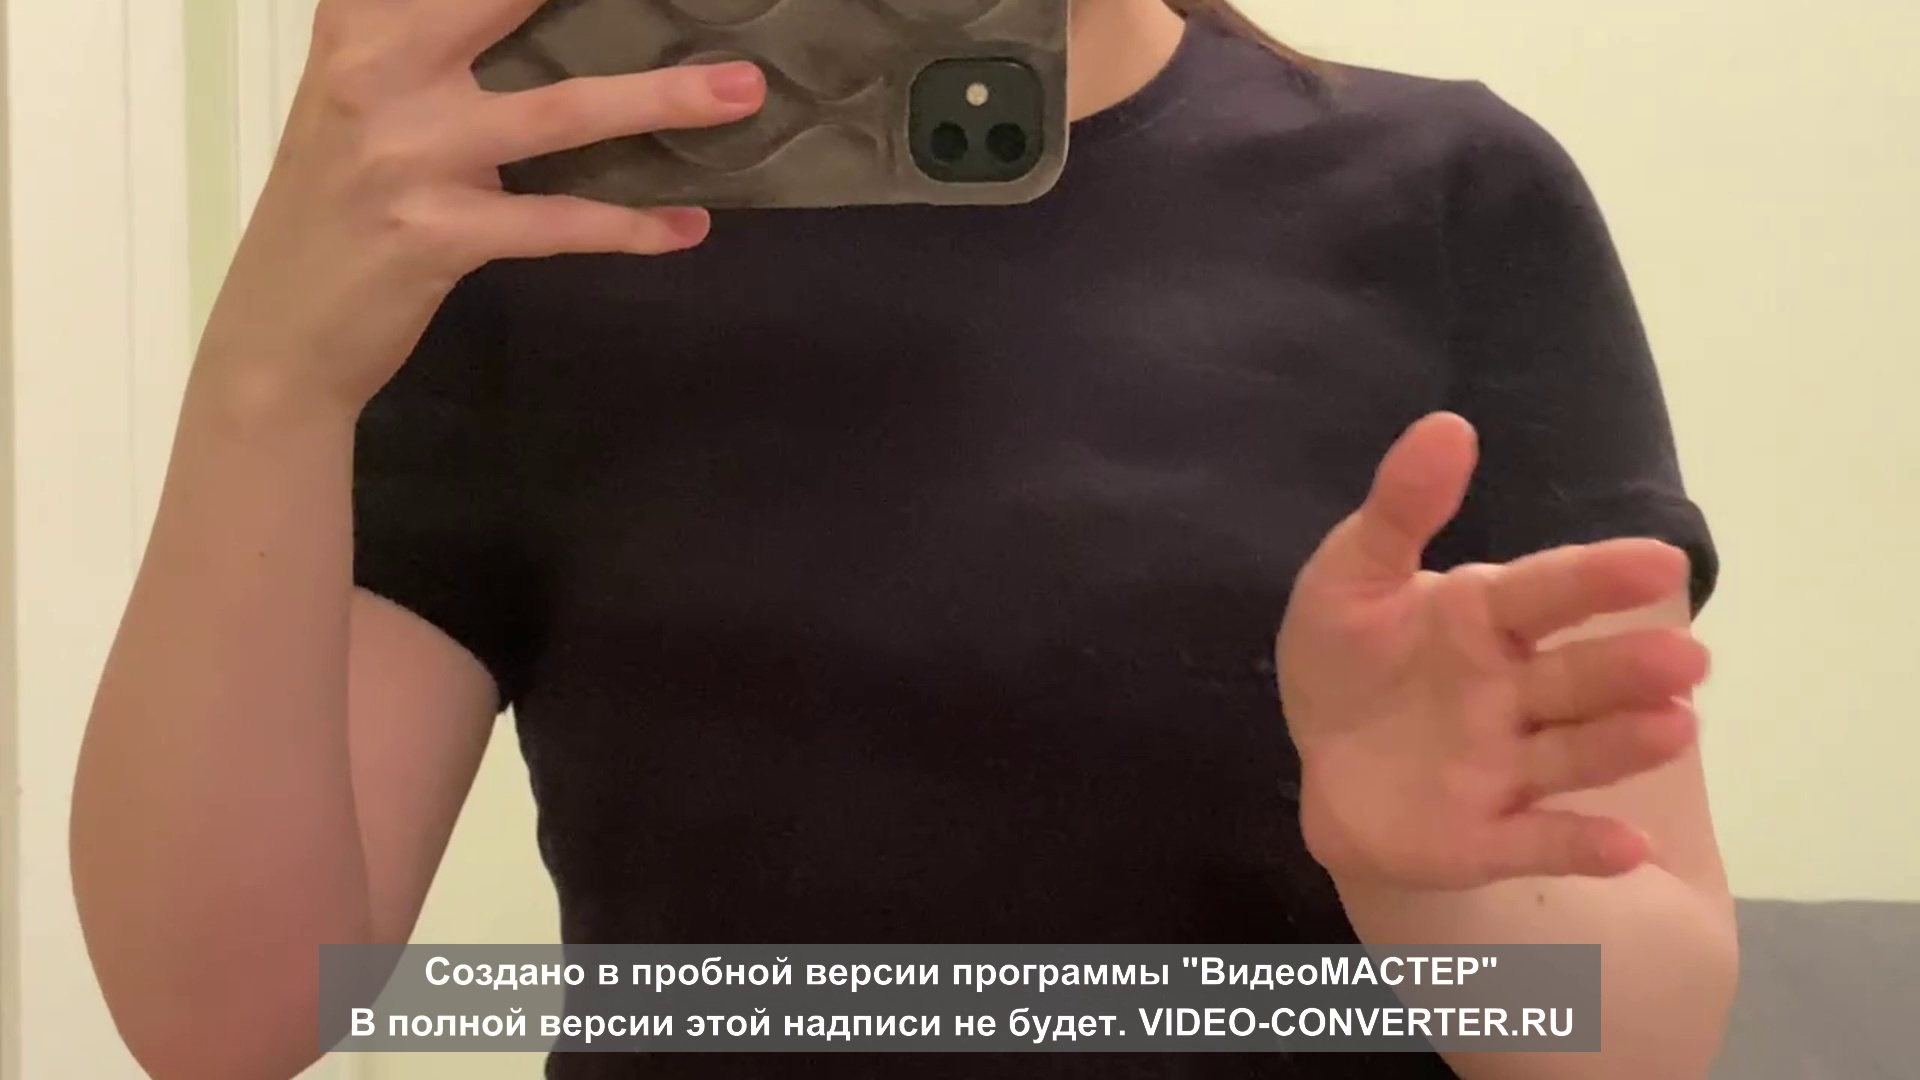Ладонь: (1275, 414, 1708, 876)
